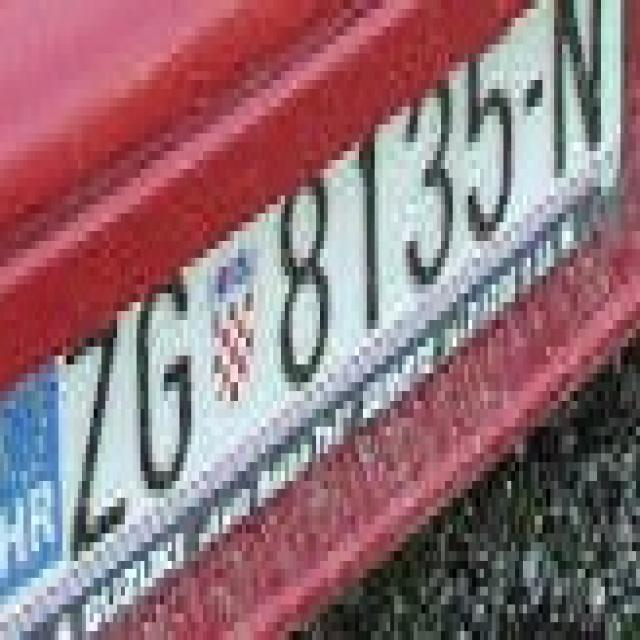1: (343, 98, 382, 346)
3: (402, 44, 449, 284)
5: (449, 9, 515, 249)
8: (277, 160, 332, 391)
G: (133, 258, 195, 489)
N: (550, 0, 605, 187)
Z: (55, 311, 125, 560)
